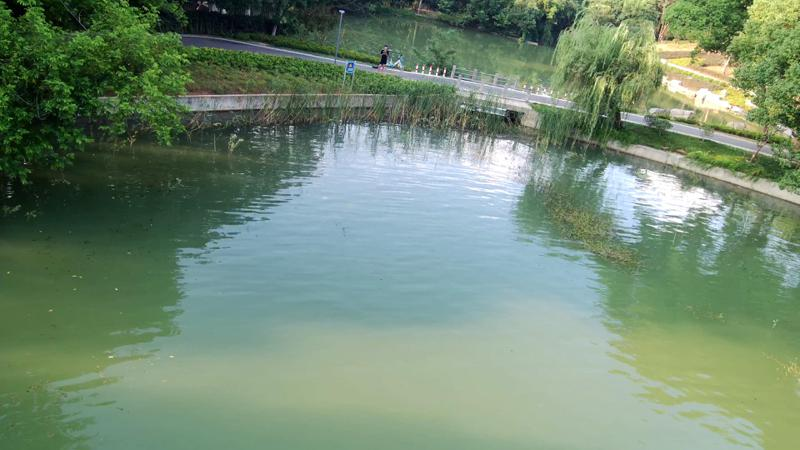passerby: (375, 44, 390, 75)
